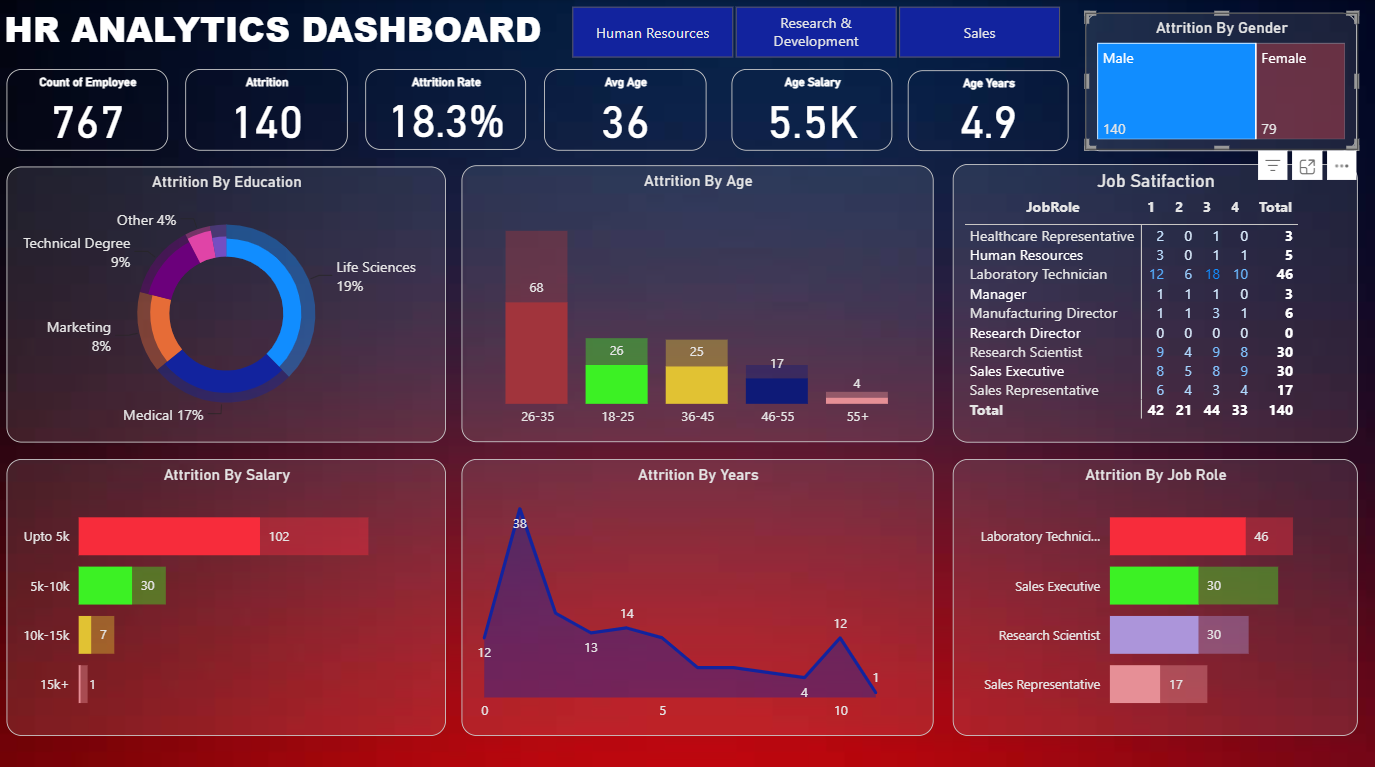

What the dashboard file says about the page in this screenshot:
{"tool":"powerbi","page":{"name":"Page 1","canvas":[1280,720],"ordinal":0},"visuals":[{"type":"card","title":"Count of Employee","fields":{"Values":["Sum(HR_Analytics.EmployeeCount)"]},"box":[7,65,150,76],"z":0},{"type":"card","title":"Attrition","fields":{"Values":["Sum(HR_Analytics.AttritionCount)"]},"box":[173,65,150.9,76.1],"z":1000},{"type":"card","title":"Avg Age","fields":{"Values":["Avg(HR_Analytics.Age)"]},"box":[506.8,65,150.9,76.1],"z":2000},{"type":"card","title":"Attrition Rate","fields":{"Values":["HR_Analytics.AttritionRate"]},"box":[341.1,65,149.7,74.8],"z":3000},{"type":"card","title":"Age Salary","fields":{"Values":["Avg(HR_Analytics.MonthlyIncome)"]},"box":[681,65,149.7,76.1],"z":4000},{"type":"card","title":"Age Years","fields":{"Values":["Avg(HR_Analytics.YearsAtCompany)"]},"box":[845.4,66.3,149.7,74.8],"z":5000},{"type":"donutChart","title":"Attrition By Education","fields":{"Category":["HR_Analytics.EducationField"],"Y":["Sum(HR_Analytics.AttritionCount)"]},"box":[7.4,155.8,408.6,256.4],"z":6000},{"type":"columnChart","title":"Attrition By Age","fields":{"Category":["HR_Analytics.AgeGroup"],"Y":["Sum(HR_Analytics.AttritionCount)"]},"box":[430.7,154.6,439.3,257.7],"z":7000},{"type":"pivotTable","title":"Job Satifaction","fields":{"Rows":["HR_Analytics.JobRole"],"Columns":["HR_Analytics.JobSatisfaction"],"Values":["Sum(HR_Analytics.AttritionCount)"]},"box":[887.1,153.4,376.7,258.9],"z":8000},{"type":"clusteredBarChart","title":"Attrition By Salary","fields":{"Category":["HR_Analytics.SalarySlab"],"Y":["Sum(HR_Analytics.AttritionCount)"]},"box":[7.4,428.2,408.6,257.7],"z":9000},{"type":"clusteredBarChart","title":"Attrition By Job Role","fields":{"Category":["HR_Analytics.JobRole"],"Y":["Sum(HR_Analytics.AttritionCount)"]},"box":[887.1,428.2,376.7,257.7],"z":10000},{"type":"areaChart","title":"Attrition By Years","fields":{"Category":["HR_Analytics.YearsAtCompany"],"Y":["Sum(HR_Analytics.AttritionCount)"]},"box":[430.7,428.2,439.3,257.7],"z":11000},{"type":"treemap","title":"Attrition By Gender","fields":{"Group":["HR_Analytics.Gender"],"Values":["Sum(HR_Analytics.AttritionCount)"]},"box":[1011,12.3,252.8,128.8],"z":12000},{"type":"slicer","fields":{"Values":["HR_Analytics.Department"]},"box":[506.8,0,504.3,61.4],"z":13000},{"type":"textbox","box":[0,0,535,71.2],"z":14000}]}

Visuals, with their boxes in screenshot pixels (x1, y1, x2, y2), scaled from the page's 1280x720 canvas onto the 1375x767 screenshot:
"Count of Employee" card: 8:69:169:150
"Attrition" card: 186:69:348:150
"Avg Age" card: 544:69:707:150
"Attrition Rate" card: 366:69:527:149
"Age Salary" card: 732:69:892:150
"Age Years" card: 908:71:1069:150
"Attrition By Education" donutChart: 8:166:447:439
"Attrition By Age" columnChart: 463:165:935:439
"Job Satifaction" pivotTable: 953:163:1358:439
"Attrition By Salary" clusteredBarChart: 8:456:447:731
"Attrition By Job Role" clusteredBarChart: 953:456:1358:731
"Attrition By Years" areaChart: 463:456:935:731
"Attrition By Gender" treemap: 1086:13:1358:150
slicer - HR_Analytics.Department: 544:0:1086:65
textbox: 0:0:575:76
